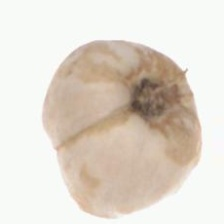L4: (43, 39, 202, 219)
